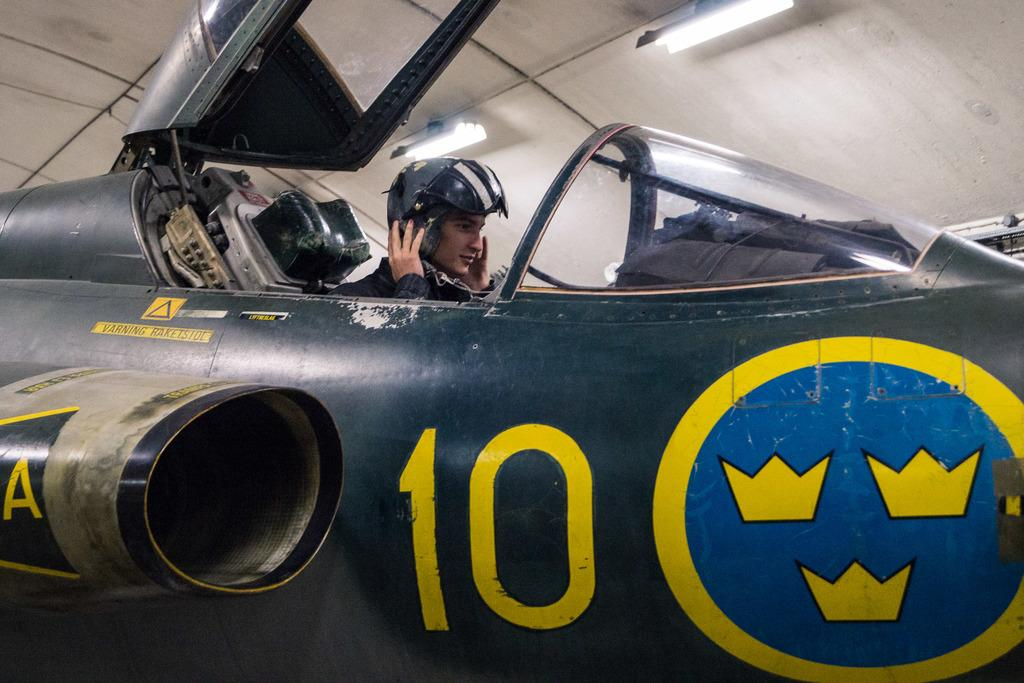helmet: (386, 157, 509, 275)
